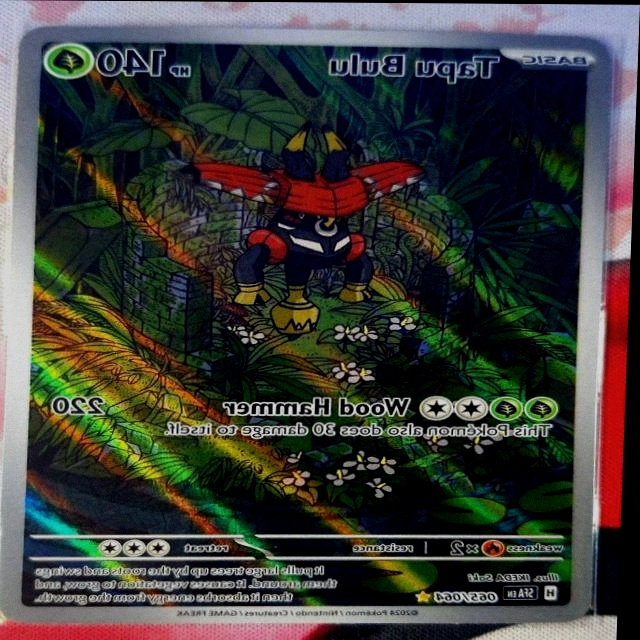card: (0, 24, 613, 623)
